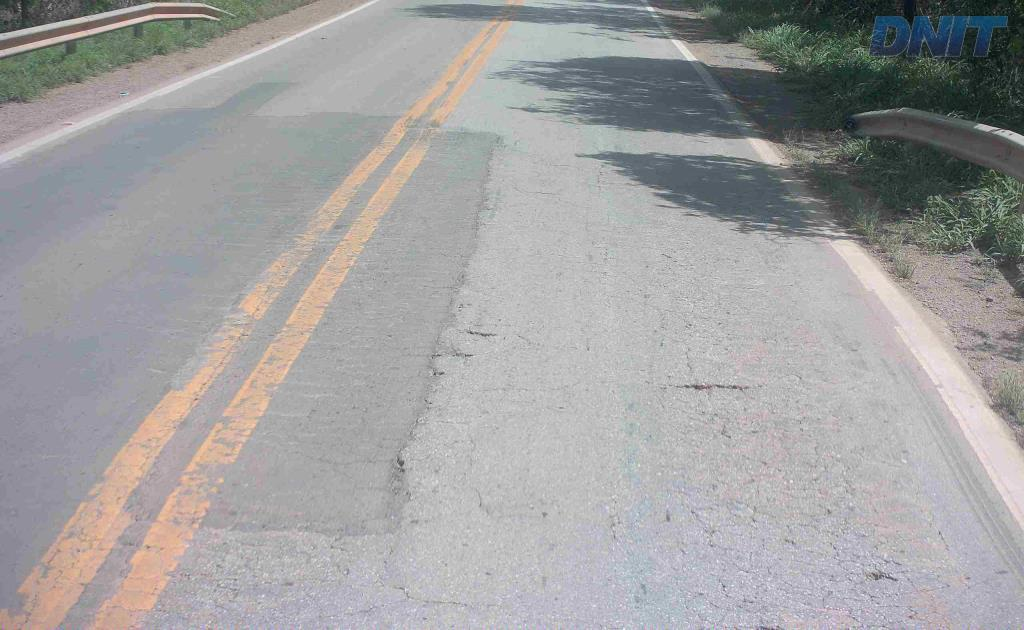crack: (674, 381, 749, 397)
